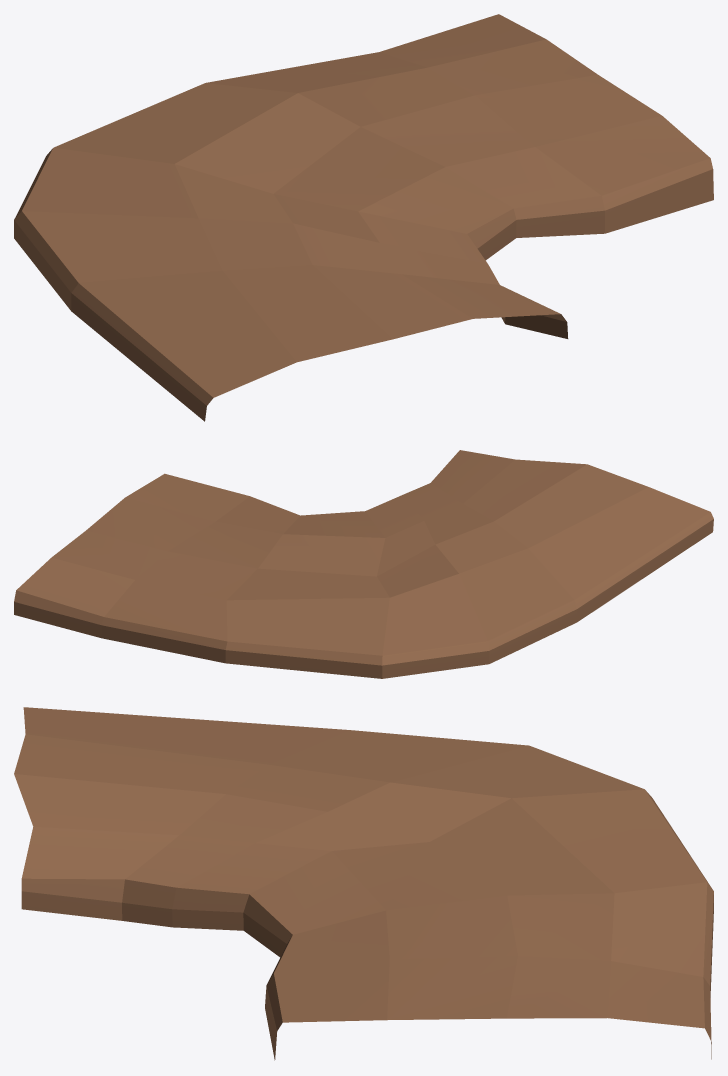
The model's file is RoadTile_9.fbx.
The picture shows the model from 3 angles, top to bottom: view 1: azimuth 30°, elevation 25°; view 2: azimuth 150°, elevation 25°; view 3: azimuth 270°, elevation 25°; orthographic projection. The views are drawn at different scales.
Parts seen in each view (by area): view 1: RoadTile_9; view 2: RoadTile_9; view 3: RoadTile_9.
Boxes of the visible parts, x1,y1,x2,y2 form: RoadTile_9: (14, 14, 713, 421); RoadTile_9: (14, 450, 713, 678); RoadTile_9: (14, 707, 713, 1060).
Bounding box in the file's own units: 697 × 71.5 × 657.
